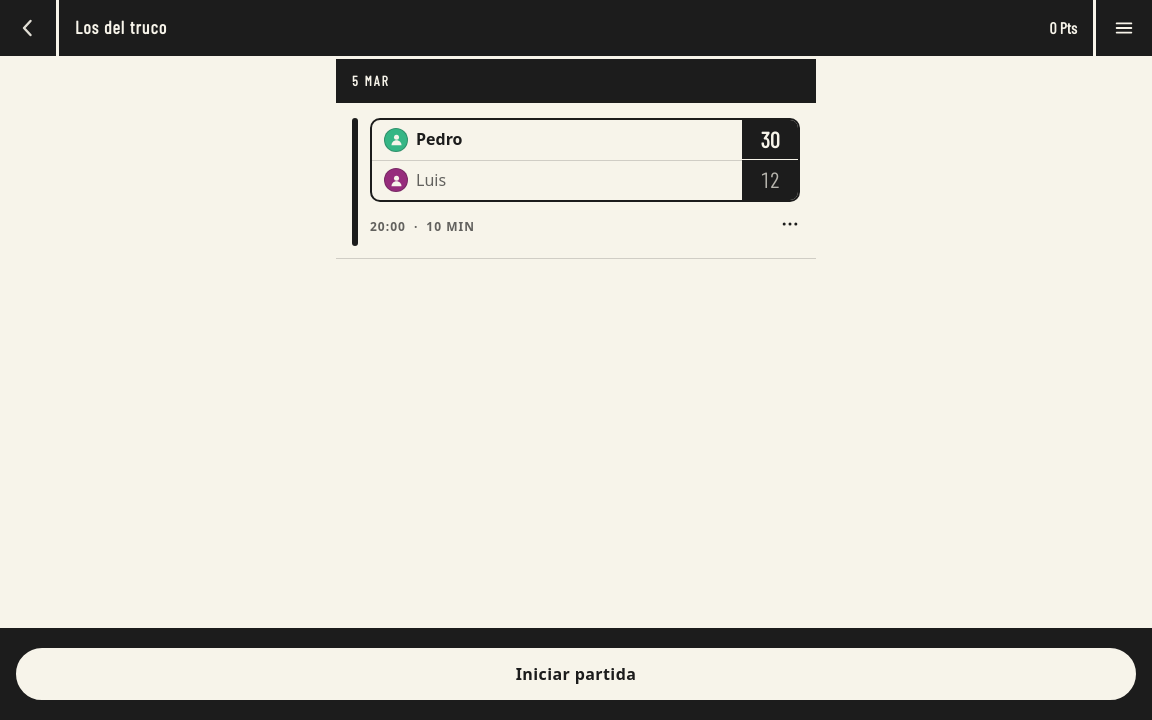
Test: cancelar y restaurar partidas › cancela con un motivo opcional y la partida queda marcada
Click the button named "Opciones de la partida": (790, 224) [768, 202, 812, 246]
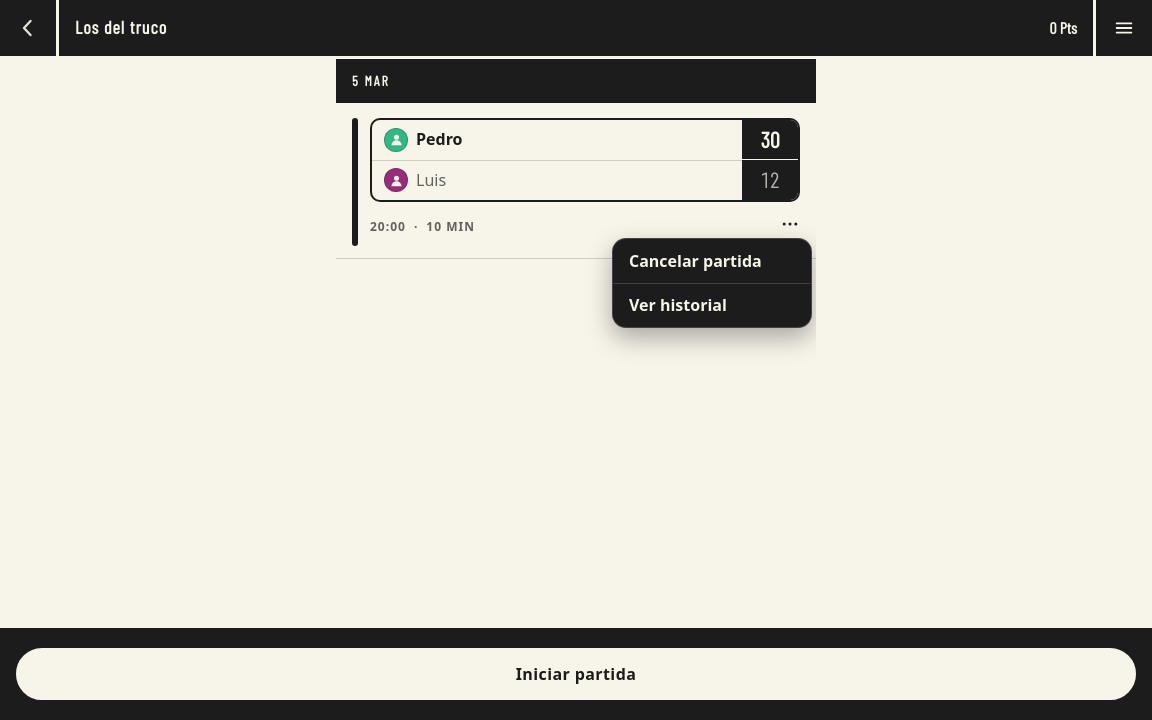
Click the menu item "Cancelar partida": (712, 261) [613, 239, 811, 283]
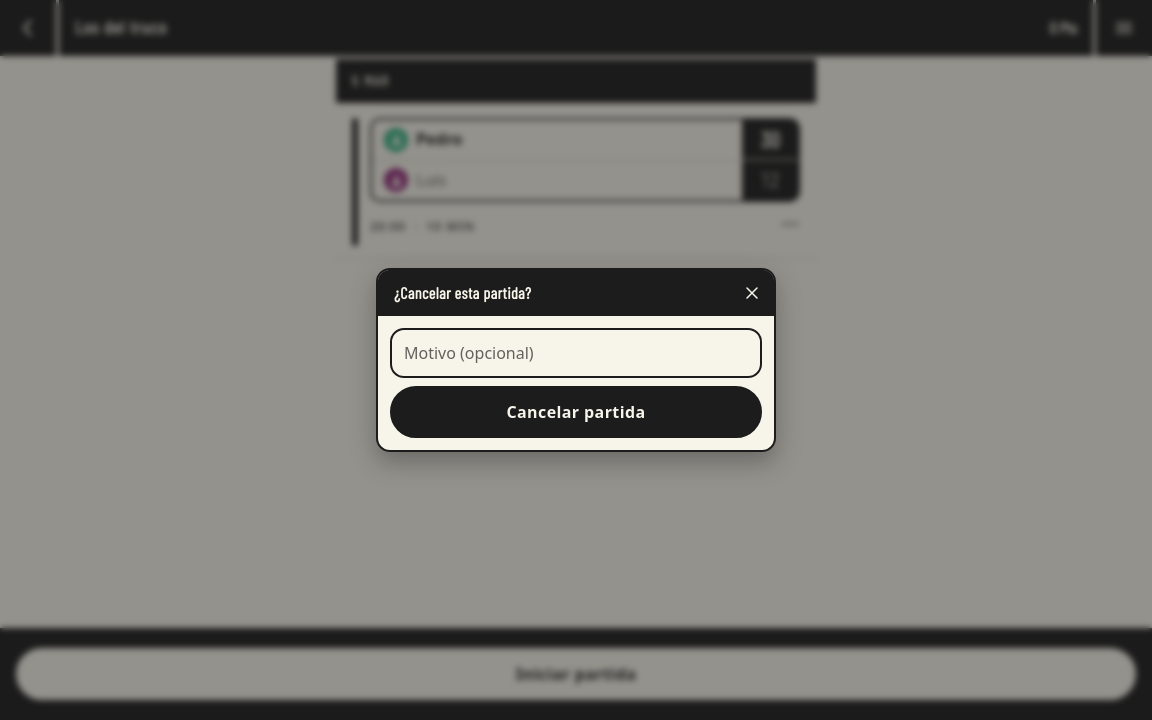
In the field labelled "Motivo (opcional)": (576, 353) [390, 328, 762, 378], type "Error al contar"
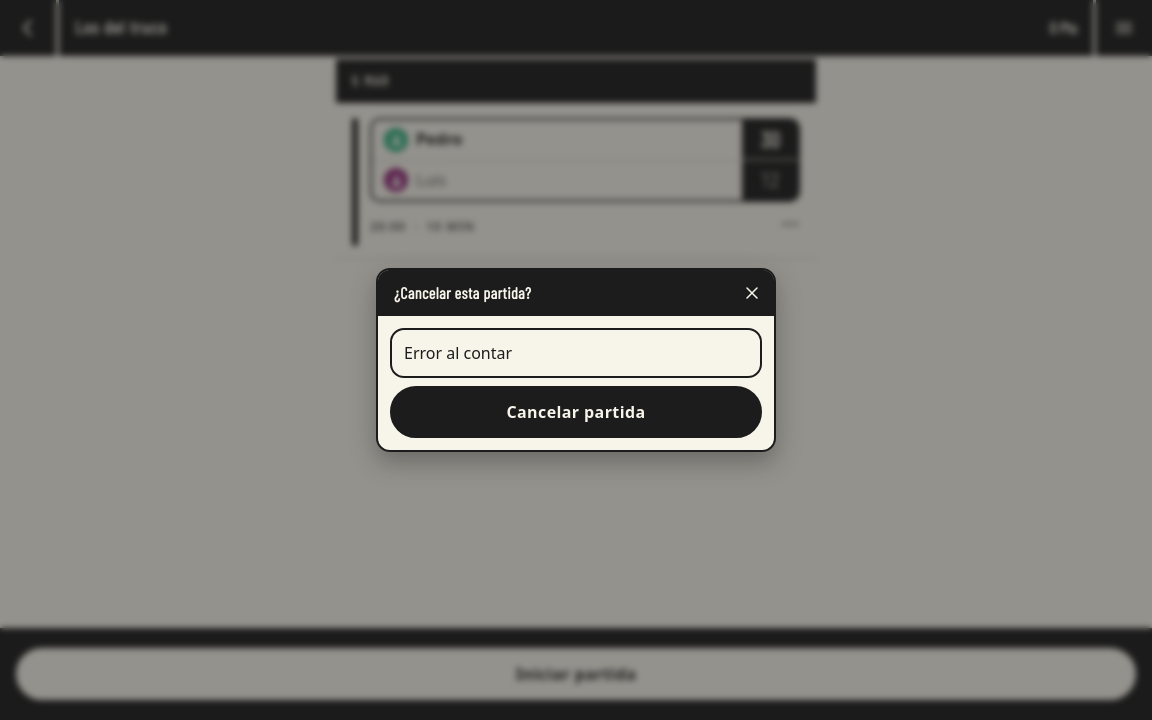
Click the button "Cancelar partida": (576, 412) [390, 386, 762, 438]
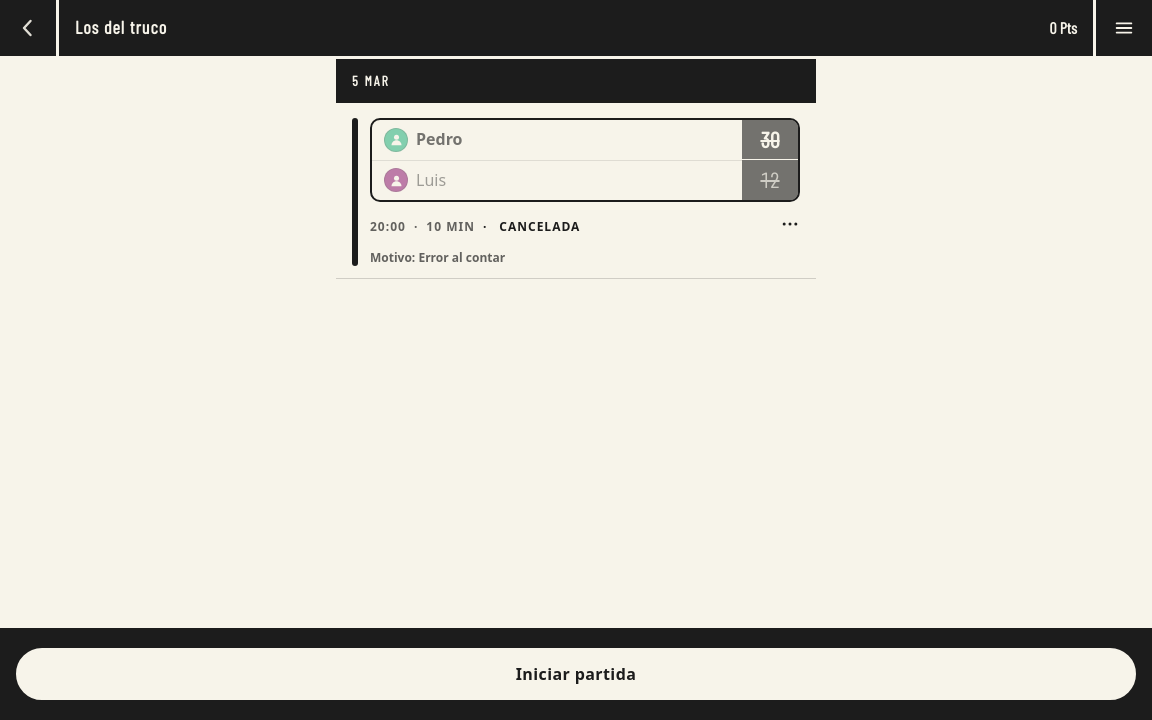
Check: the text "Cancelada" is shown, box [483, 219, 580, 236]
Check: the text "Motivo: Error al contar" is shown, box [370, 250, 505, 266]
Check: the dialog is gone
Click the button named "Opciones de la partida": (790, 224) [768, 202, 812, 246]
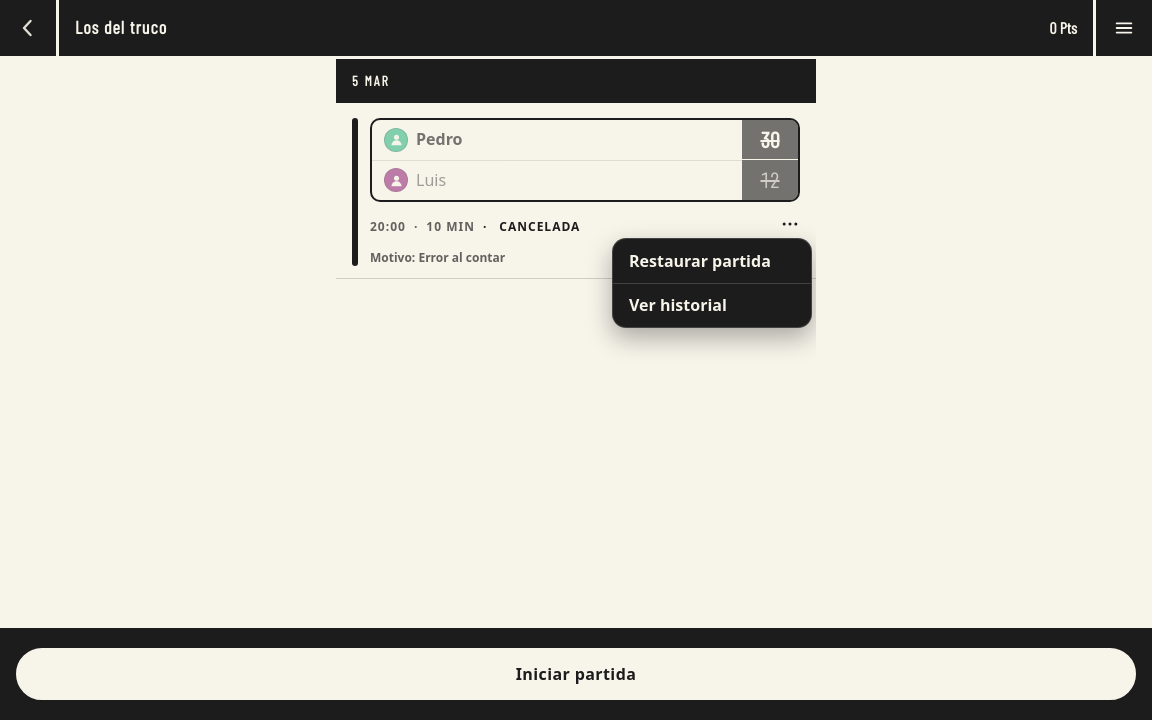
Check: the menu item "Restaurar partida" is shown, box [613, 239, 811, 283]
